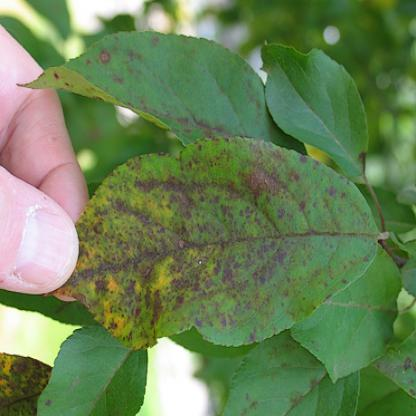apple scab leaf: (62, 139, 378, 347)
